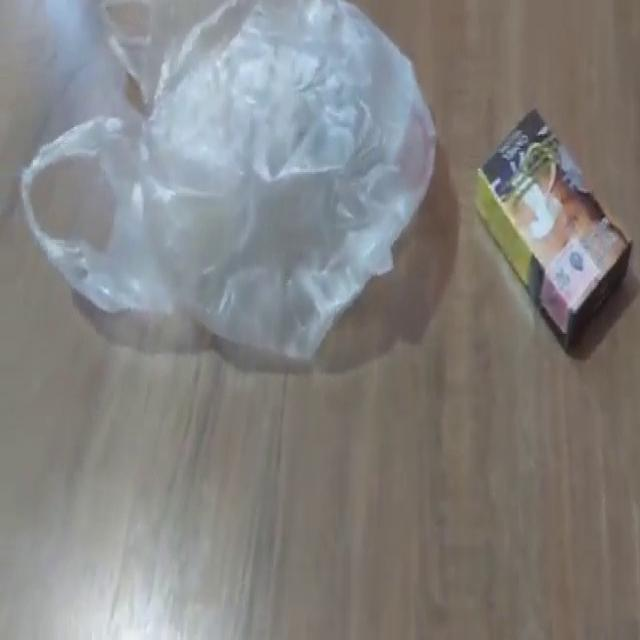Anorganik: (1, 1, 441, 368)
Organik: (472, 103, 636, 360)
